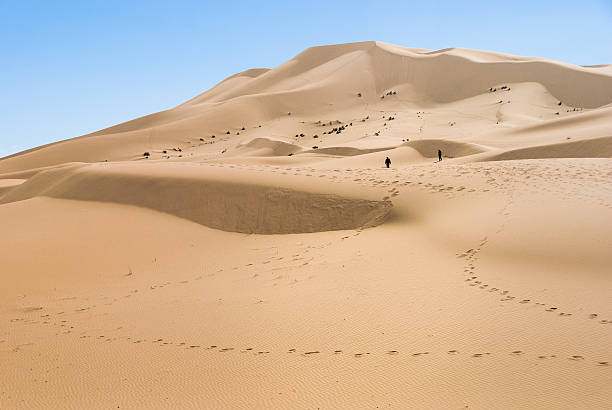animal_footprint: (456, 236, 531, 304), (456, 237, 507, 294), (464, 275, 516, 301), (371, 349, 429, 359), (456, 248, 480, 272), (11, 342, 33, 351), (464, 248, 479, 259), (465, 254, 476, 268), (464, 270, 476, 280), (465, 248, 479, 255), (472, 352, 490, 357), (479, 236, 487, 246), (568, 355, 584, 360), (537, 355, 557, 359), (159, 281, 171, 287), (75, 306, 89, 311), (500, 295, 514, 300), (353, 352, 369, 356), (412, 352, 428, 356), (466, 265, 475, 272), (241, 347, 253, 352), (511, 350, 523, 355), (219, 347, 233, 351), (447, 349, 458, 354), (457, 252, 468, 257), (373, 180, 383, 185), (303, 351, 319, 354), (464, 268, 472, 274), (599, 319, 611, 323), (559, 312, 571, 316), (132, 339, 144, 343), (352, 230, 360, 236), (456, 186, 465, 191), (400, 181, 411, 185), (546, 307, 557, 311), (597, 361, 608, 365), (387, 350, 398, 354), (496, 226, 503, 232), (589, 313, 597, 318), (152, 338, 162, 342), (274, 256, 284, 260), (207, 345, 217, 349), (519, 299, 529, 303), (256, 351, 269, 354), (489, 287, 498, 291), (387, 188, 396, 192), (479, 284, 488, 288), (391, 191, 398, 196), (188, 345, 199, 348), (469, 282, 477, 286), (41, 320, 49, 324), (502, 211, 510, 215), (194, 275, 202, 279), (291, 253, 299, 257), (40, 314, 50, 317), (61, 330, 71, 333), (535, 302, 545, 305), (161, 342, 171, 345), (470, 276, 477, 280), (288, 348, 295, 352), (468, 188, 475, 192), (149, 285, 156, 289), (382, 196, 389, 200), (251, 273, 258, 277), (501, 290, 508, 294), (353, 353, 362, 356), (179, 280, 188, 283), (79, 335, 88, 338), (333, 350, 342, 353), (262, 260, 270, 263), (483, 352, 491, 355), (245, 263, 253, 266), (341, 236, 349, 239), (391, 180, 399, 183), (538, 355, 546, 358), (178, 342, 185, 345), (474, 281, 481, 284), (368, 178, 375, 181), (464, 278, 471, 281), (353, 178, 360, 181), (305, 173, 311, 176), (98, 335, 104, 338), (418, 173, 424, 176), (521, 301, 523, 303)
